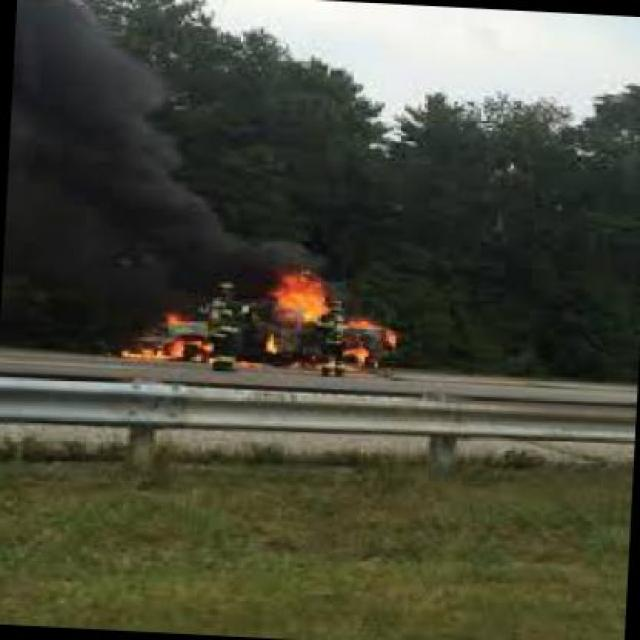fire: (118, 252, 410, 396)
